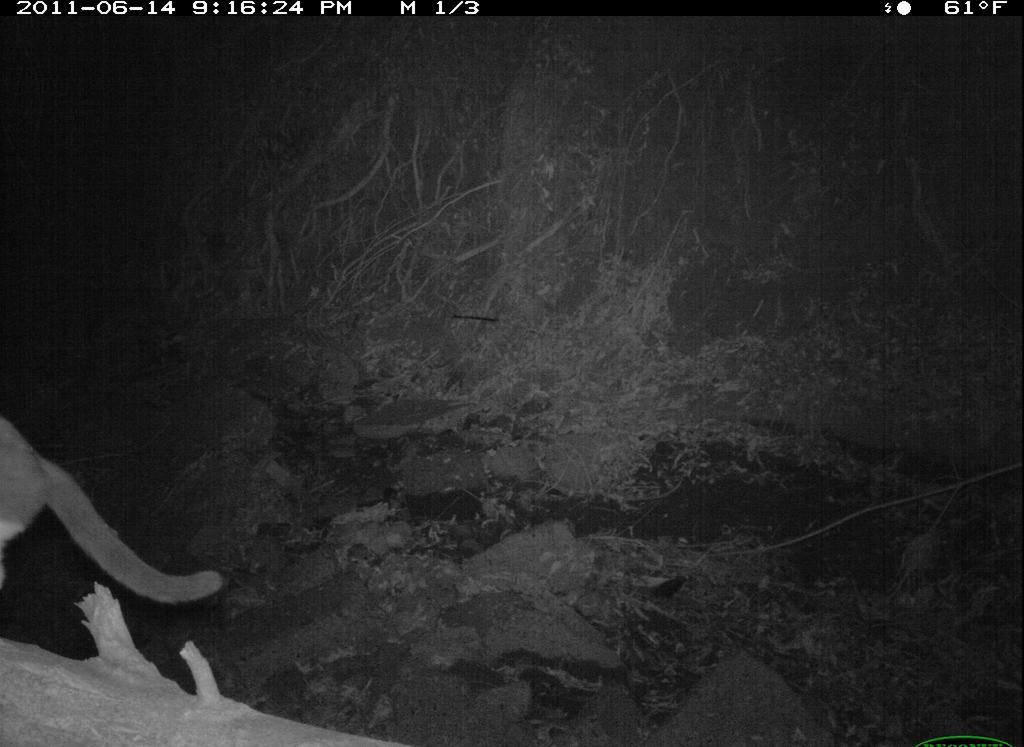cat: (2, 423, 218, 615)
